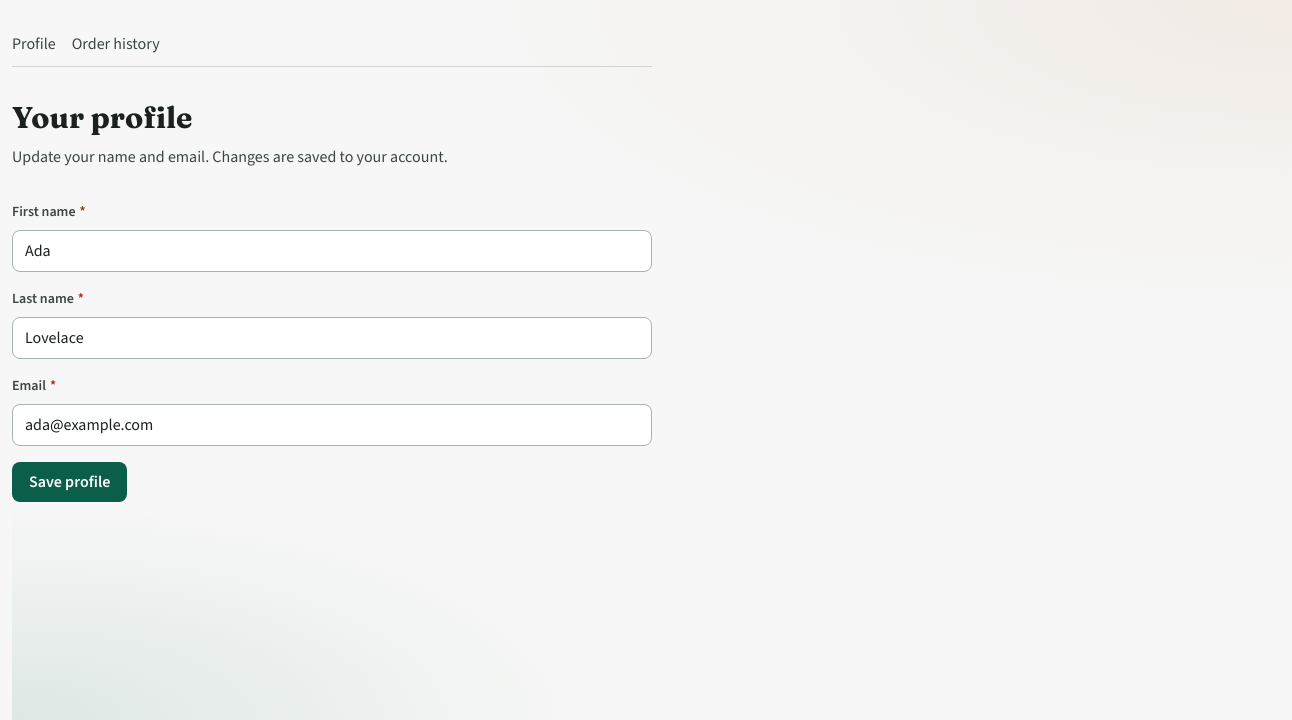
Scenario: ProfilePage › saves profile via PATCH /api/me
Replace the text in the field labelled "First name*" with "Augusta" at (332, 250), box left=12, top=230, right=652, bottom=272
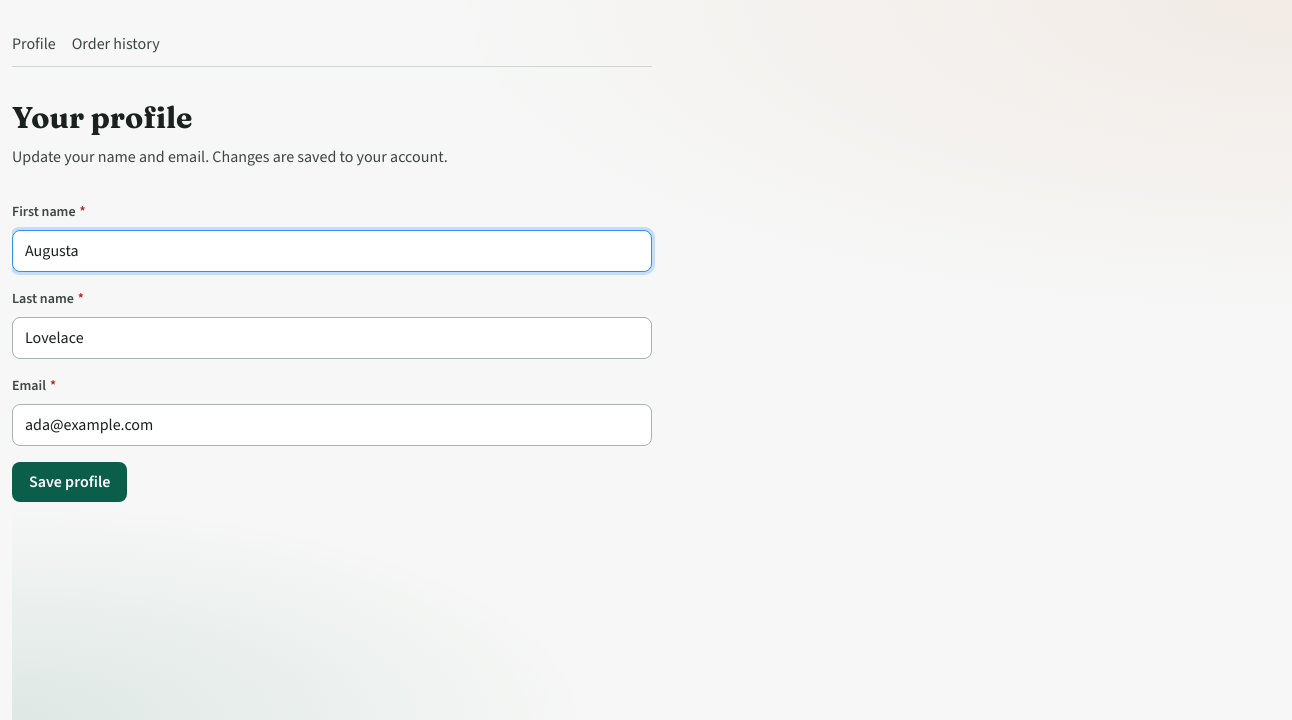
Click the button "Save profile".
click(70, 482)  # box left=12, top=462, right=127, bottom=502
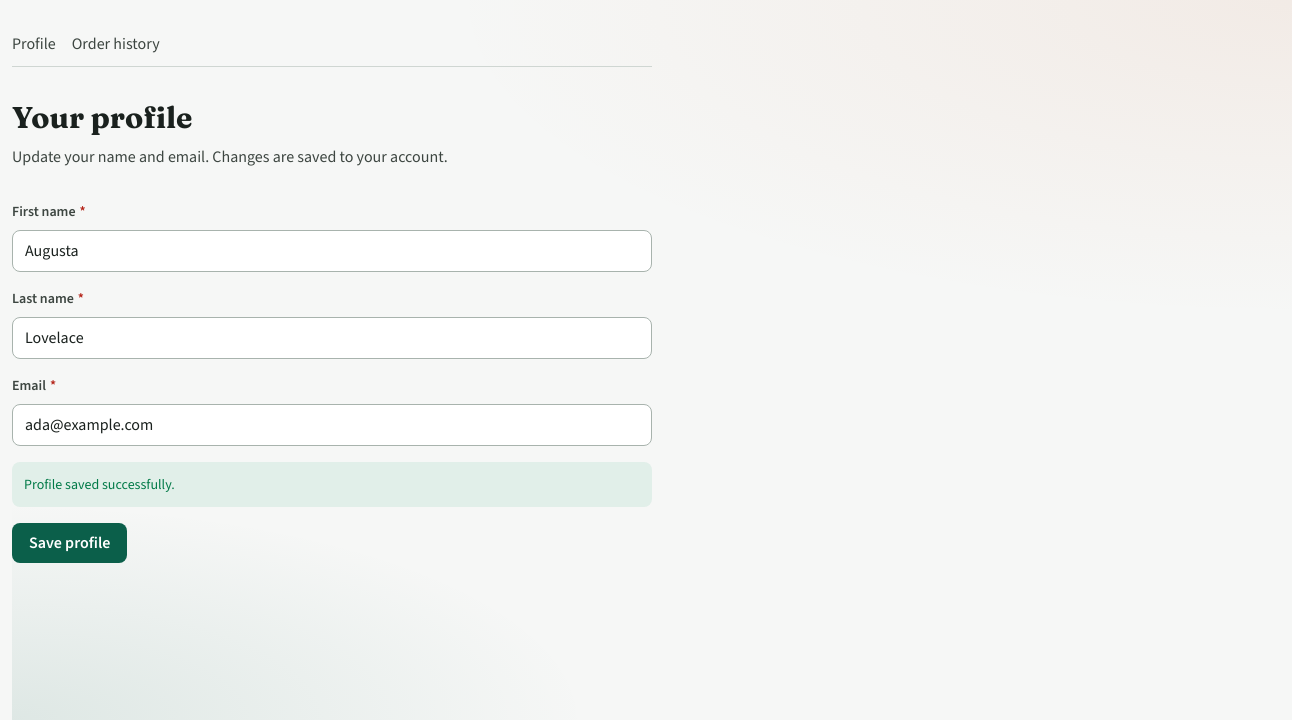
Expected: the message shows "Profile saved", left=24, top=474, right=175, bottom=494
